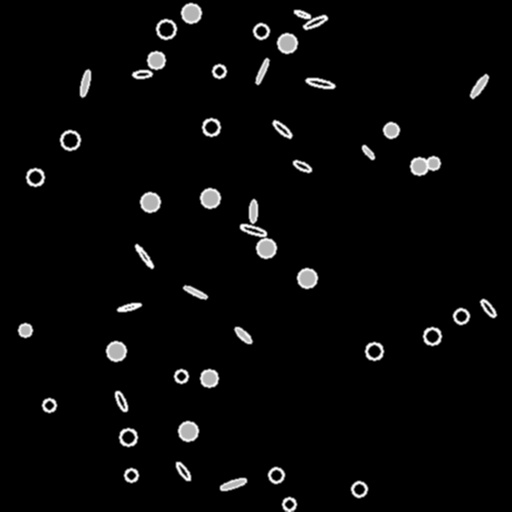pseudomonas: (469, 73, 489, 99), (134, 244, 154, 268), (271, 119, 293, 139), (302, 14, 328, 30), (254, 58, 270, 84), (219, 477, 247, 491), (183, 284, 207, 300), (240, 223, 266, 237), (233, 326, 253, 344), (479, 298, 497, 318), (79, 69, 91, 97), (306, 77, 334, 89), (175, 461, 191, 481), (114, 390, 128, 412), (292, 159, 312, 173), (361, 144, 375, 160), (118, 302, 140, 312), (249, 200, 257, 222), (294, 9, 310, 19), (133, 70, 151, 78)
synechocystis: (61, 131, 79, 149), (182, 4, 200, 22), (298, 269, 316, 287), (257, 239, 275, 257), (157, 20, 175, 38), (278, 34, 296, 52), (141, 193, 159, 211), (201, 189, 219, 207), (179, 422, 197, 440), (107, 342, 125, 360), (27, 169, 43, 185), (201, 370, 217, 386), (148, 52, 164, 68), (411, 158, 427, 174), (120, 429, 136, 445), (366, 343, 382, 359), (424, 328, 440, 344), (203, 119, 219, 135), (269, 468, 283, 482), (384, 123, 398, 137), (454, 309, 468, 323), (352, 482, 366, 496), (254, 24, 268, 38), (283, 498, 295, 510), (125, 469, 137, 481), (427, 157, 439, 169), (213, 65, 225, 77), (175, 370, 187, 382), (43, 399, 55, 411), (19, 324, 31, 336)
